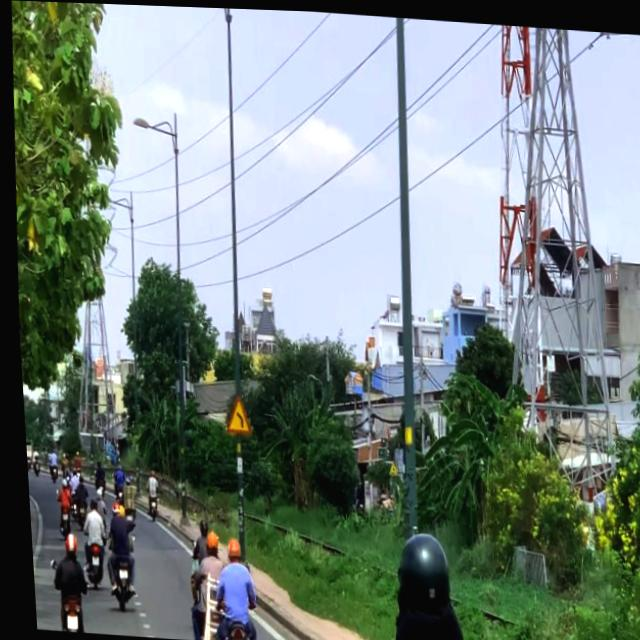cho ngoat nguy hiem vong ben trai: (218, 391, 250, 437)
